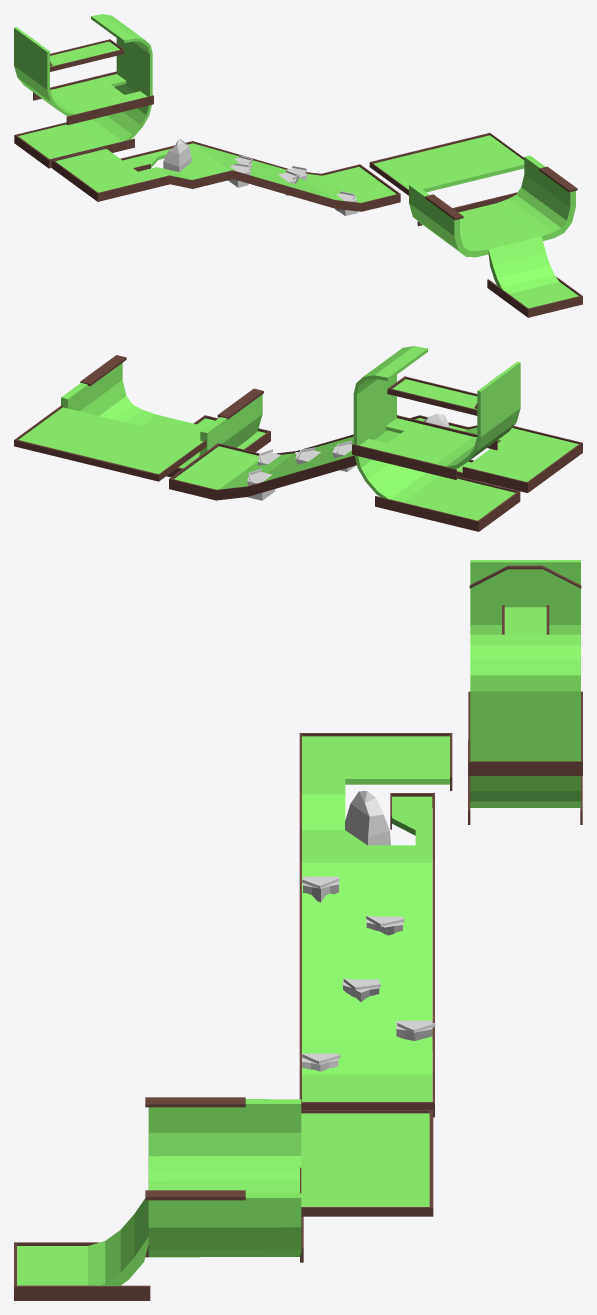
Rendered from HoleSet02_Climbing.fbx.
3 views of the same model, one above another, from view 1: azimuth 30°, elevation 25°; view 2: azimuth 150°, elevation 25°; view 3: azimuth 270°, elevation 25° (orthographic). The views are drawn at different scales.
Visible parts, largest first — view 1: Cube.028, Cube.041, Cube.034, Cube.042, Cube.035, Cube.038, Cube.029, Cube.037, Cube.036, Cube.031, Cube.047, Cube.039; view 2: Cube.028, Cube.034, Cube.041, Cube.035, Cube.042, Cube.037, Cube.031, Cube.038, Cube.036, Cube.039, Cube.033, Cube.032 (+2 smaller); view 3: Cube.041, Cube.028, Cube.034, Cube.035, Cube.042, Cube.029, Cube.031, Cube.038, Cube.047, Cube.036, Cube.032, Cube.033.
Part boxes in pixels (<box>): Cube.028: <box>373,135,578,308</box>; Cube.041: <box>55,143,396,202</box>; Cube.034: <box>18,14,152,158</box>; Cube.042: <box>52,141,400,211</box>; Cube.035: <box>14,27,147,115</box>; Cube.038: <box>33,71,153,125</box>; Cube.029: <box>487,276,582,317</box>; Cube.037: <box>14,122,134,168</box>; Cube.036: <box>50,41,119,66</box>; Cube.031: <box>369,133,524,195</box>; Cube.047: <box>163,139,191,171</box>; Cube.039: <box>50,39,124,71</box>; Cube.028: <box>18,363,265,473</box>; Cube.034: <box>353,346,515,520</box>; Cube.041: <box>174,418,578,489</box>; Cube.035: <box>359,361,520,468</box>; Cube.042: <box>169,415,582,500</box>; Cube.037: <box>375,476,520,531</box>; Cube.031: <box>14,405,206,481</box>; Cube.038: <box>352,415,497,479</box>; Cube.036: <box>392,379,477,409</box>; Cube.039: <box>387,376,477,415</box>; Cube.033: <box>217,388,263,419</box>; Cube.032: <box>80,355,126,386</box>; Cube.041: <box>302,736,449,1101</box>; Cube.028: <box>17,1099,429,1285</box>; Cube.034: <box>470,634,580,807</box>; Cube.035: <box>470,560,580,634</box>; Cube.042: <box>299,733,452,1117</box>; Cube.029: <box>14,1242,150,1300</box>; Cube.031: <box>301,1110,433,1216</box>; Cube.038: <box>468,691,582,775</box>; Cube.047: <box>345,791,390,845</box>; Cube.036: <box>504,607,546,634</box>; Cube.032: <box>145,1190,245,1200</box>; Cube.033: <box>145,1097,245,1107</box>.
Size of the model in its own units: 4400 by 2421 by 3001.
